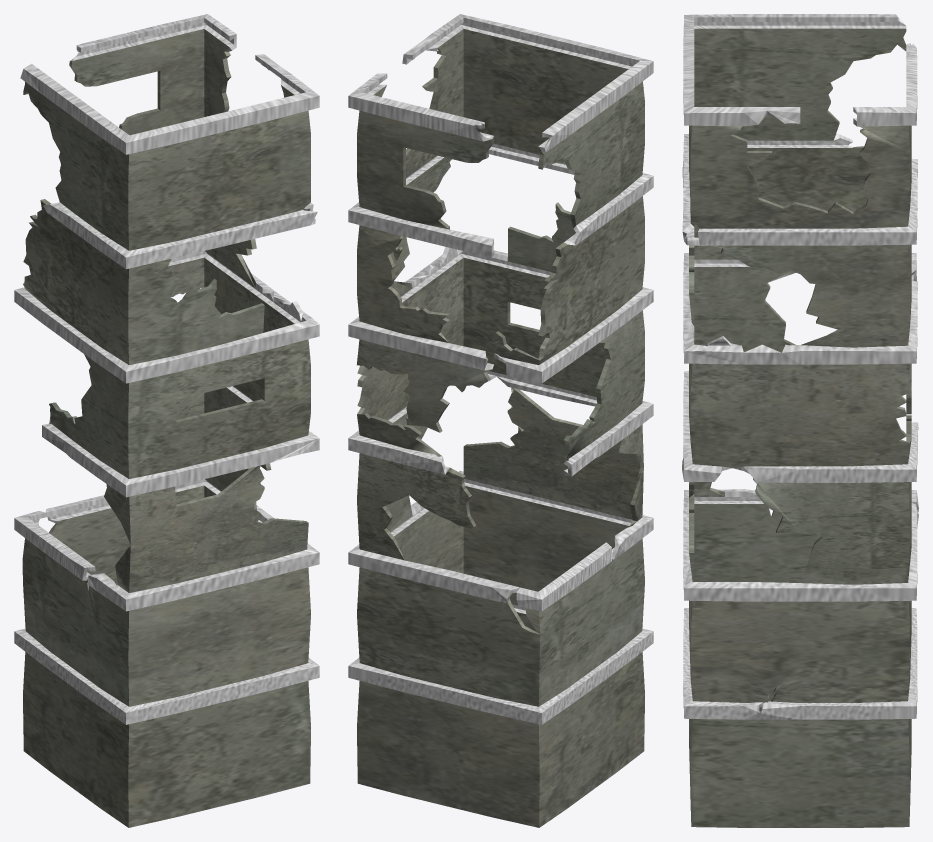
The model's file is building.fbx.
3 views of the same model, side by side, from view 1: azimuth 30°, elevation 25°; view 2: azimuth 150°, elevation 25°; view 3: azimuth 270°, elevation 25° (orthographic). The views are drawn at different scales.
Visible parts, largest first — view 1: Box006; view 2: Box006; view 3: Box006.
Part boxes in pixels (box(x1,y1,x2,y2)): Box006: box(14, 14, 319, 827); Box006: box(348, 14, 653, 827); Box006: box(682, 14, 918, 827).
Size of the model in its own units: 44.71 by 150 by 44.68.
Materials: 1 (1 with a texture image).
